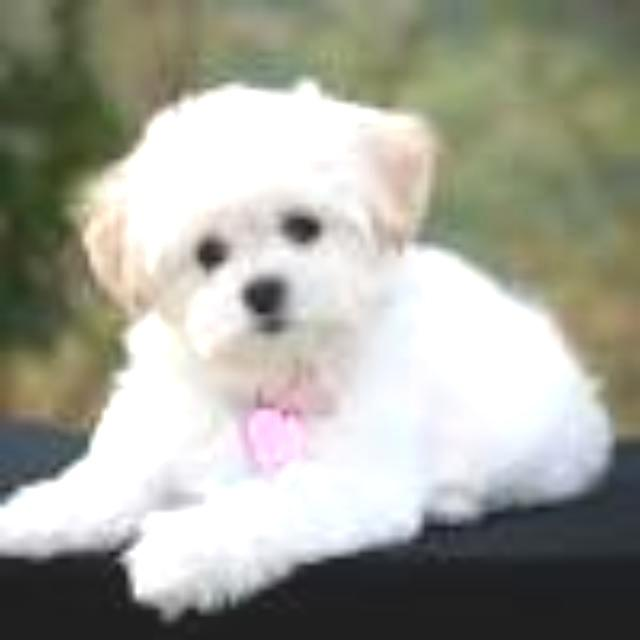dog: (27, 55, 447, 392)
